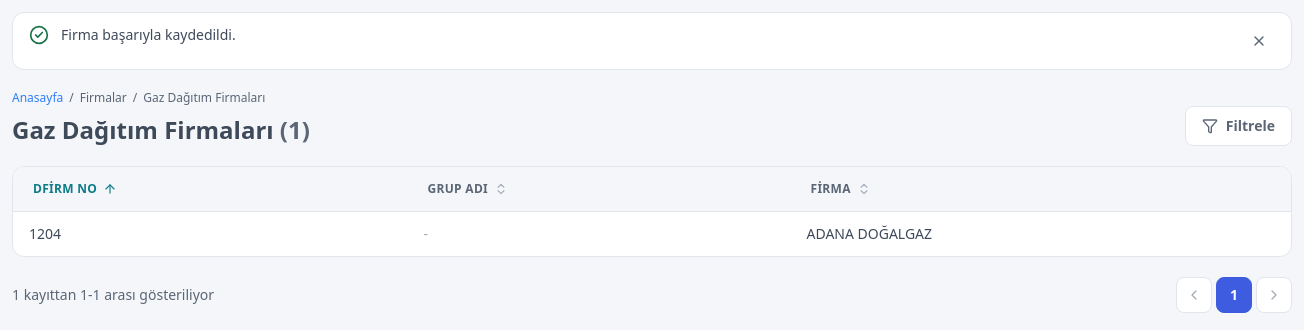
Test: kayıt sonrası başarı bildirimi › kapatılabilir
The image size is (1304, 330).
Expected: the text "Firma başarıyla kaydedildi." is shown, x1=61 y1=25 x2=236 y2=44
What coordinates should you click on to do the following:
click the button named "Bildirimi kapat"
I would click on:
 (1259, 41)
Its box is x1=1243 y1=25 x2=1275 y2=57.
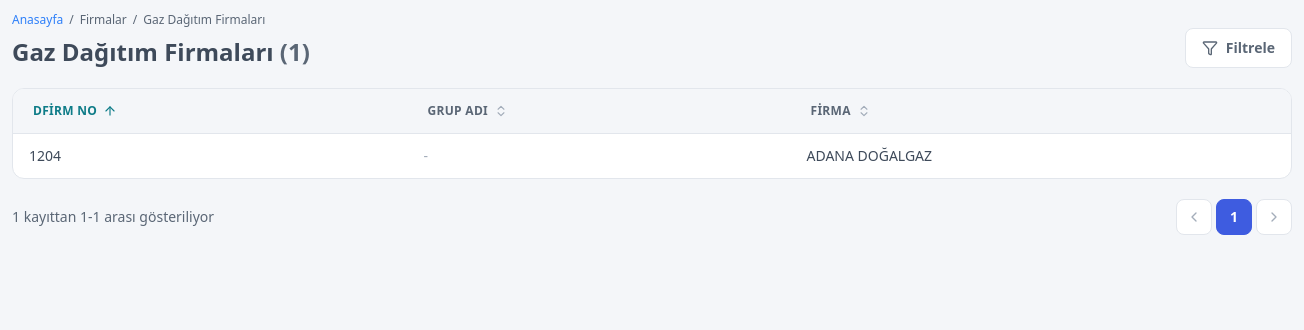
Now the text "Firma başarıyla kaydedildi." is gone
